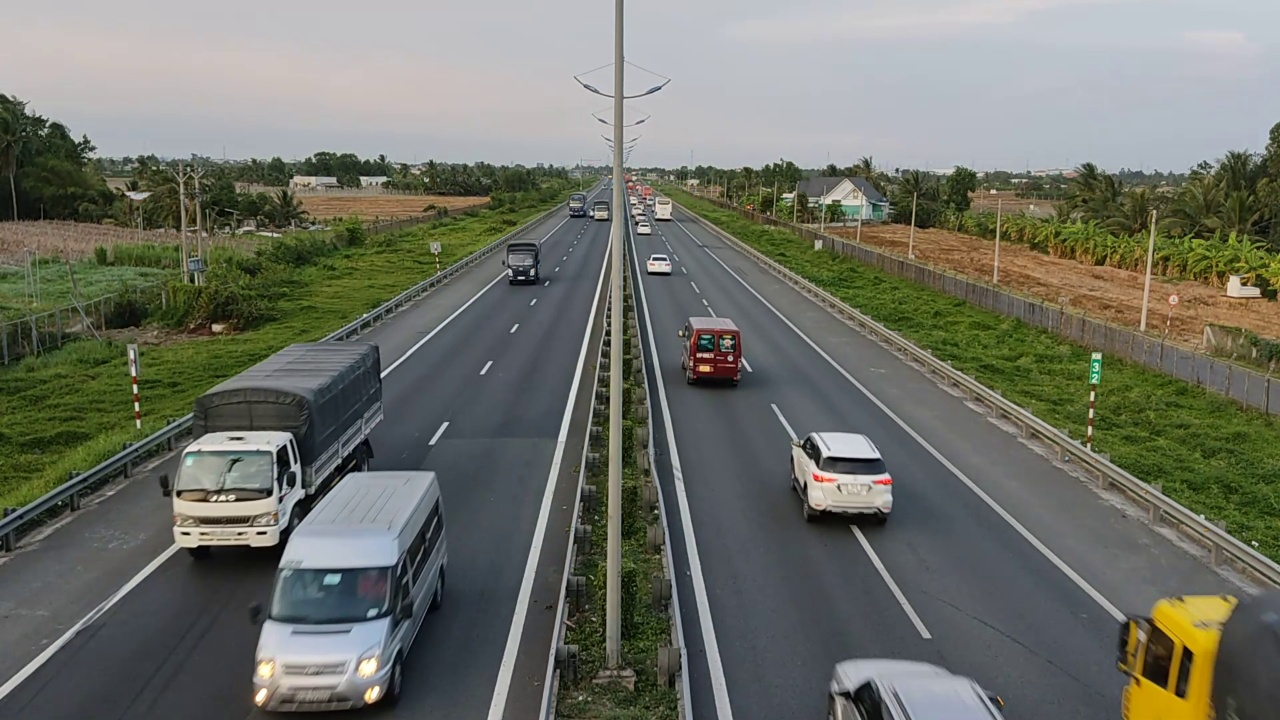car: (247, 467, 449, 713), (824, 656, 1003, 718), (789, 430, 895, 520), (675, 312, 746, 392), (646, 253, 673, 275)
truck: (165, 338, 384, 554)
